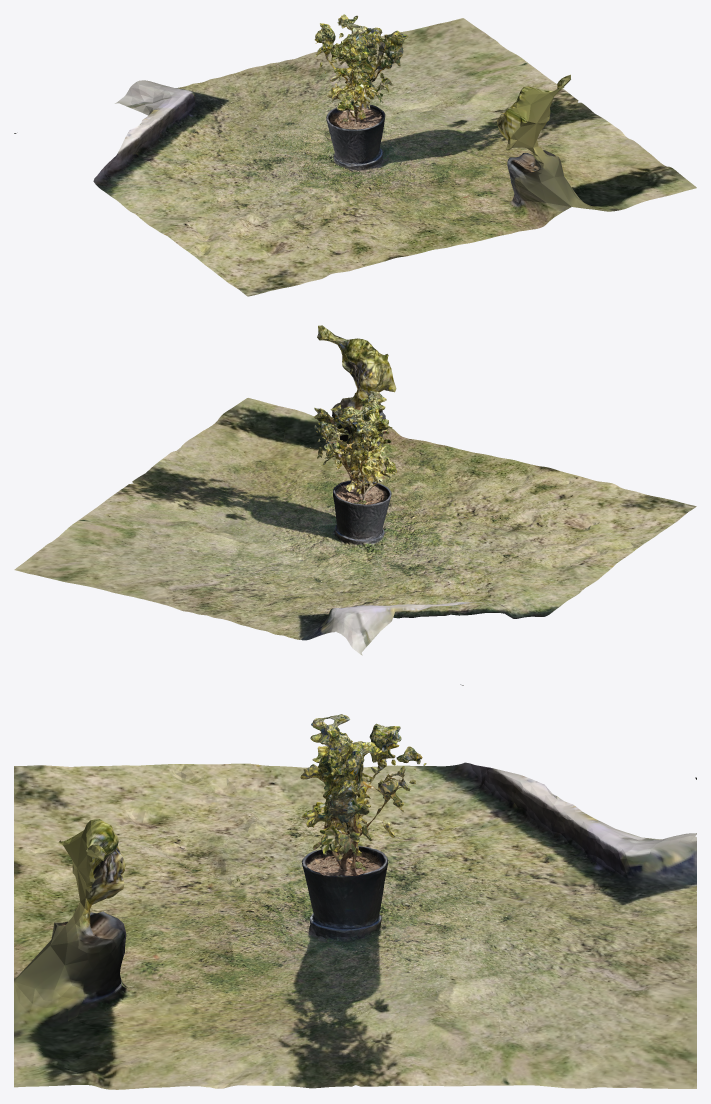
The model's file is escuela-scan.glb.
3 renders of one model, top to bottom at view 1: azimuth 30°, elevation 25°; view 2: azimuth 150°, elevation 25°; view 3: azimuth 270°, elevation 25°, orthographic. The views are drawn at different scales.
Parts seen in each view (by area): view 1: Diorama · suelo, planta y figuras; view 2: Diorama · suelo, planta y figuras; view 3: Diorama · suelo, planta y figuras.
Boxes of the visible parts, left/top/right/bottom form: Diorama · suelo, planta y figuras: left=14, top=14, right=696, bottom=296; Diorama · suelo, planta y figuras: left=14, top=325, right=696, bottom=685; Diorama · suelo, planta y figuras: left=14, top=714, right=696, bottom=1089.
Size of the model in its own units: 2.96 by 0.9268 by 2.67.
1 material, 1 textured.
